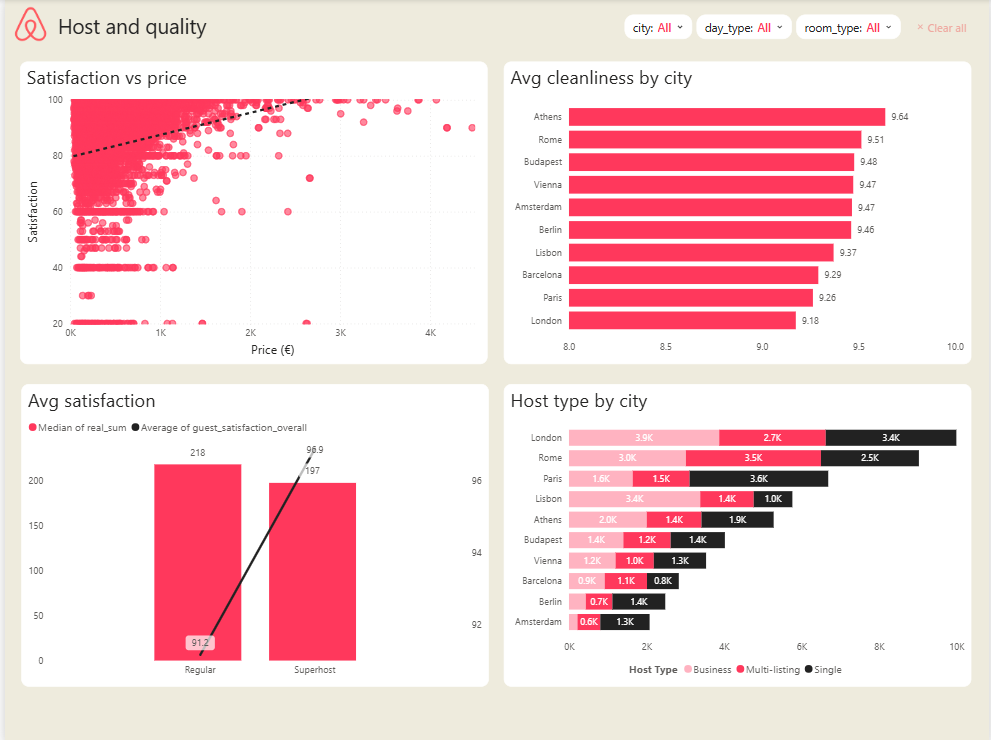

This screenshot's page, from the dashboard's own definition file:
{"tool":"powerbi","page":{"name":"Host and quality","canvas":[1280,970],"ordinal":2},"visuals":[{"type":"textbox","box":[53,6,223,55],"z":0},{"type":"scatterChart","title":"Satisfaction vs price","fields":{"X":["GOLD fact_listing.real_sum"],"Y":["GOLD fact_listing.guest_satisfaction_overall"]},"box":[19.4,80.6,608.1,393.5],"z":1000},{"type":"smartFilterBarSDKA9F7BD62E04ADCE9DD7450D052A5DB60","fields":{"fields":["GOLD dim_city.city","GOLD dim_day_type.day_type","GOLD dim_room_type.room_type"]},"box":[458.8,11.2,821.2,223.8],"z":2000},{"type":"clusteredBarChart","title":"Avg cleanliness by city","fields":{"Category":["GOLD dim_city.city"],"Y":["Avg(GOLD fact_listing.cleanliness_rating)"]},"box":[648.4,80.6,608.1,393.5],"z":3000},{"type":"barChart","title":"Host type by city","fields":{"Category":["GOLD dim_city.city"],"Y":["CountNonNull(GOLD fact_listing.listing_key)"],"Series":["GOLD dim_host.Host Type"]},"box":[648.4,500,608.1,393.5],"z":4000},{"type":"lineClusteredColumnComboChart","title":"Avg satisfaction","fields":{"Category":["GOLD dim_host.Superhost"],"Y":["Median(GOLD fact_listing.real_sum)"],"Y2":["Avg(GOLD fact_listing.guest_satisfaction_overall)"]},"box":[21,500,608.1,393.5],"z":5000},{"type":"image","box":[0,8,66,49],"z":6000}]}

Visuals, with their boxes in screenshot pixels (x1, y1, x2, y2), scaled from the page's 1280x970 canvas onto the 991x740 screenshot:
textbox: box=[41, 5, 214, 47]
"Satisfaction vs price" scatterChart: box=[15, 61, 486, 362]
smartFilterBarSDKA9F7BD62E04ADCE9DD7450D052A5DB60 - GOLD dim_city.city x GOLD dim_day_type.day_type: box=[355, 9, 990, 179]
"Avg cleanliness by city" clusteredBarChart: box=[502, 61, 973, 362]
"Host type by city" barChart: box=[502, 381, 973, 682]
"Avg satisfaction" lineClusteredColumnComboChart: box=[16, 381, 487, 682]
image: box=[0, 6, 51, 43]
